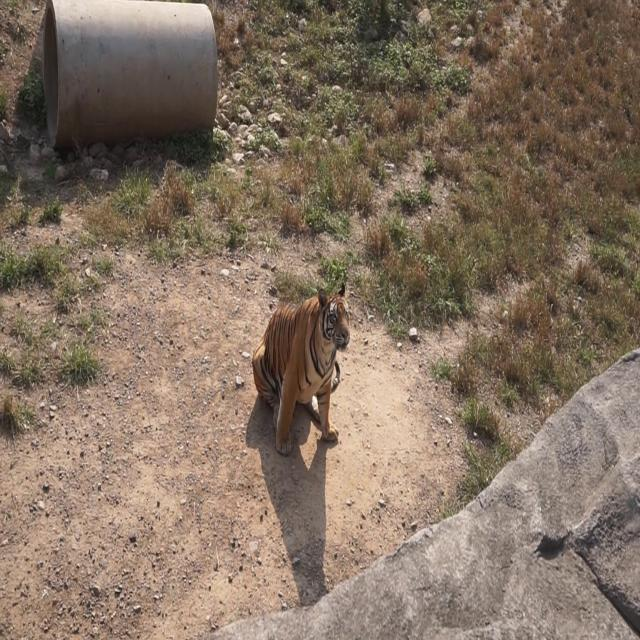Tiger: (239, 265, 381, 466)
